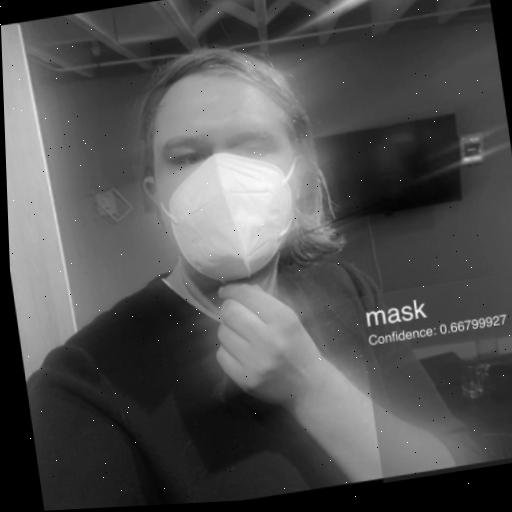mask: (122, 25, 352, 303)
